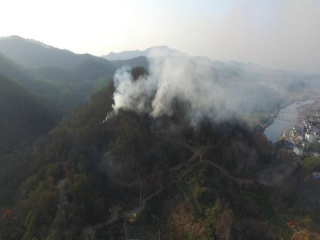smoke: (102, 36, 262, 130)
